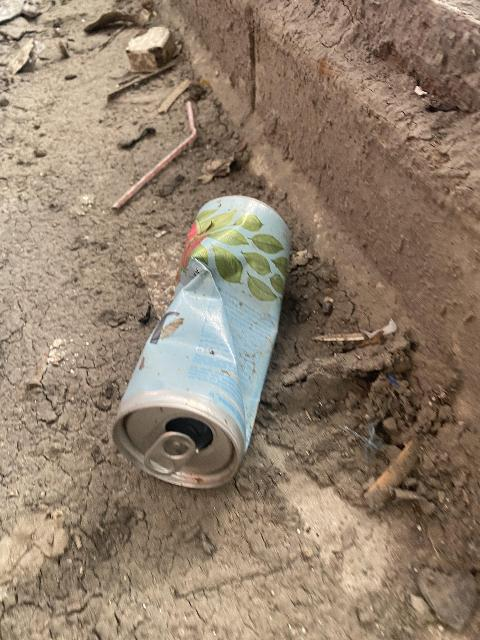Metal: (116, 197, 325, 494)
